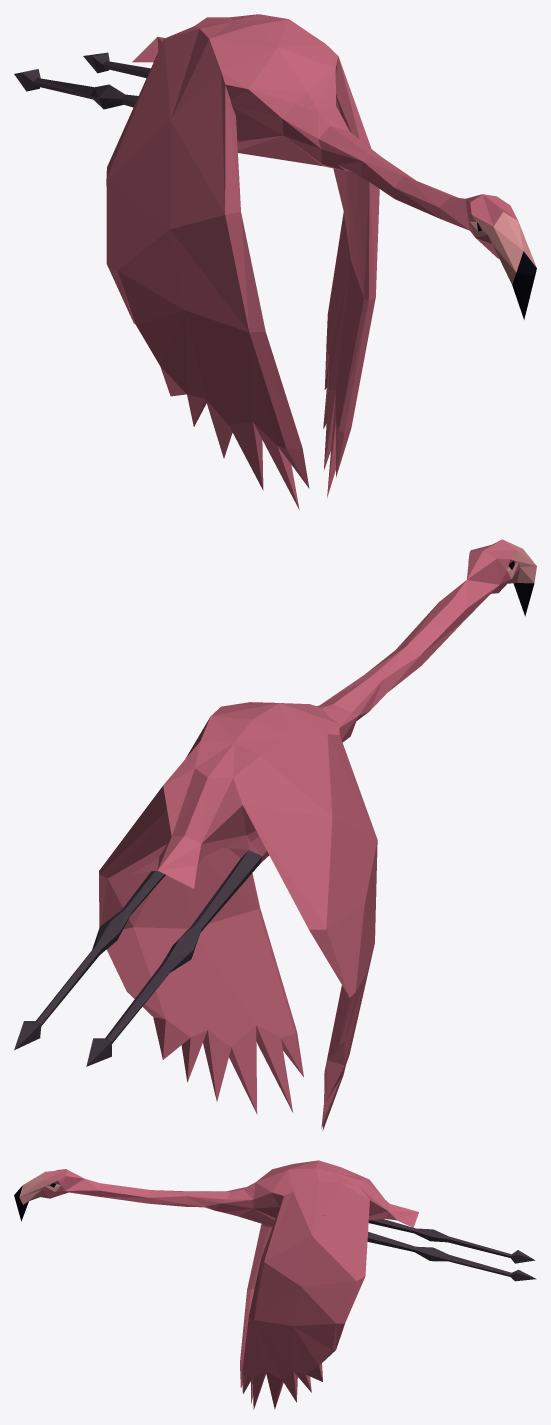
File: flamingo-draco.glb
The picture shows the model from 3 angles, top to bottom: view 1: azimuth 30°, elevation 25°; view 2: azimuth 150°, elevation 25°; view 3: azimuth 270°, elevation 25°; orthographic projection. The views are drawn at different scales.
Size of the model in its own units: 52.19 by 89.12 by 177.
